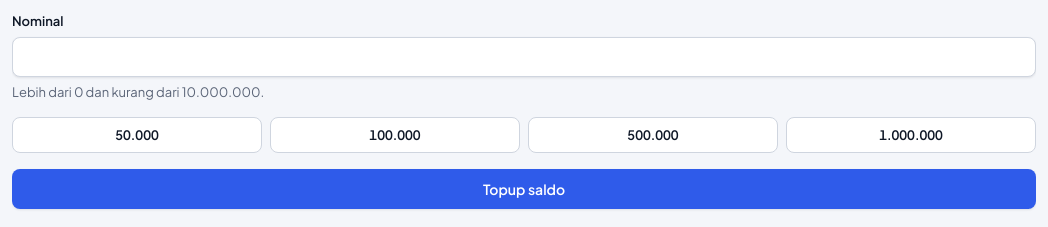
Test: TopUpForm › fills in a quick amount
Click the button "100.000": x=395, y=135 [270,117,520,153]
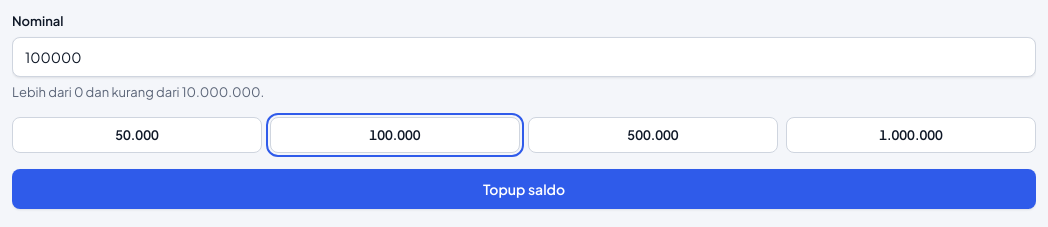
Check: the field labelled "Nominal" holds "100000", box [12,37,1036,77]
